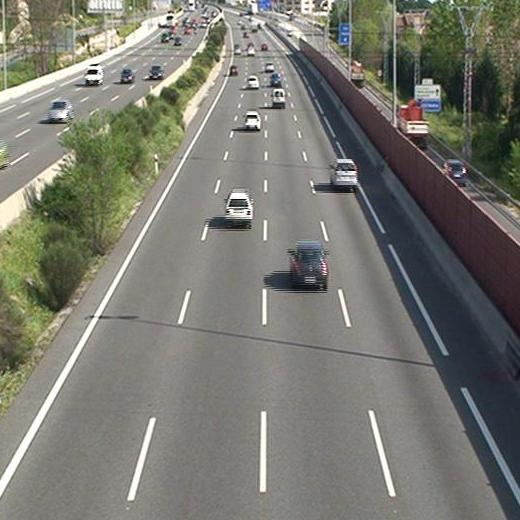car: (290, 242, 329, 287), (224, 192, 254, 224), (330, 160, 356, 186), (243, 111, 260, 129), (270, 71, 281, 85), (246, 76, 258, 88), (263, 61, 272, 69), (229, 65, 237, 74)
van: (271, 89, 283, 107)
